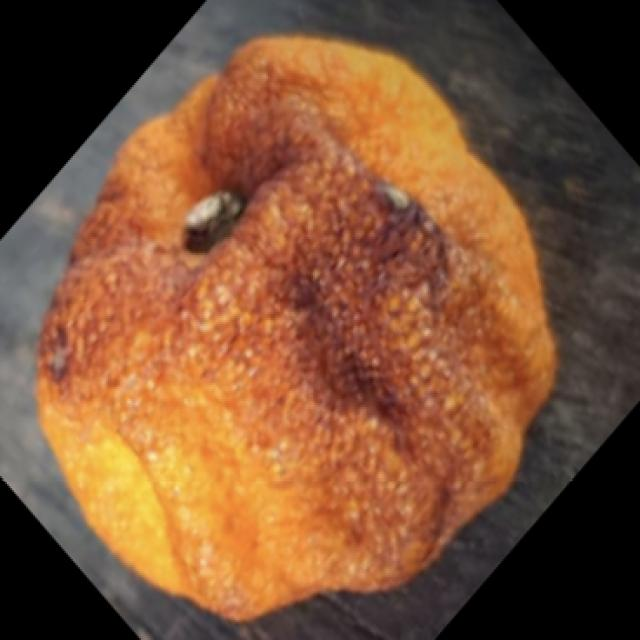sangat_busuk: (34, 38, 548, 600)
